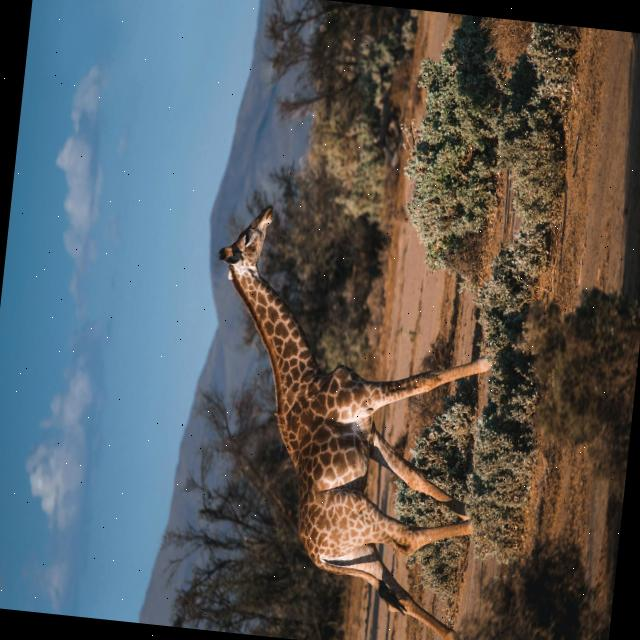Giraffe: (177, 198, 506, 640)
